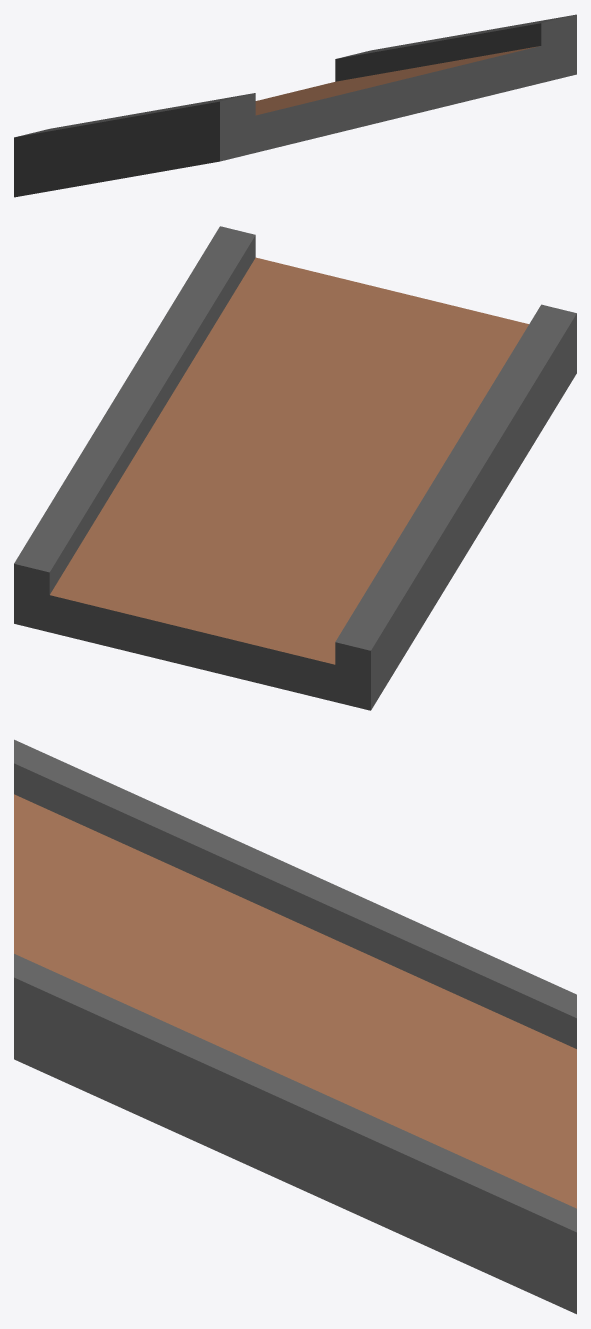
Rendered from road_uphill.fbx.
3 renders of one model, top to bottom at view 1: azimuth 30°, elevation 25°; view 2: azimuth 150°, elevation 25°; view 3: azimuth 270°, elevation 25°, orthographic. The views are drawn at different scales.
Parts seen in each view (by area): view 1: Cube.006; view 2: Cube.006; view 3: Cube.006.
Boxes of the visible parts, <box> form: Cube.006: <box>14,14,576,197</box>; Cube.006: <box>14,226,576,710</box>; Cube.006: <box>14,739,576,1314</box>.
Size of the model in its own units: 100 by 66.06 by 100.
